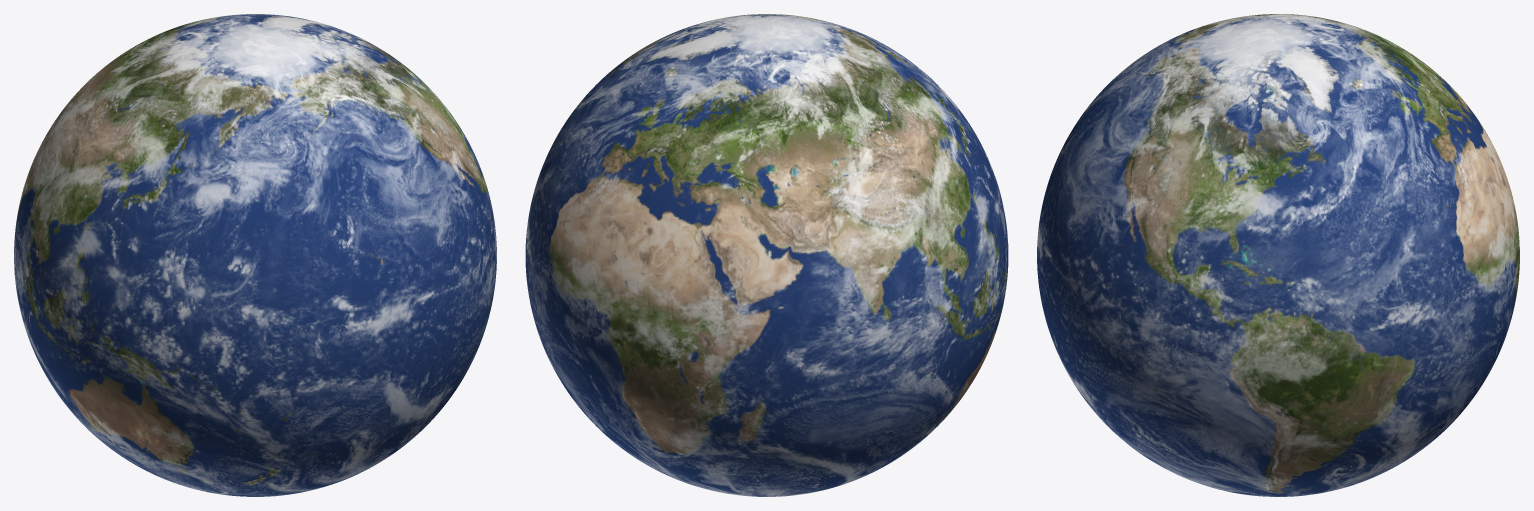
File: earth.obj
3 views of the same model, side by side, from view 1: azimuth 30°, elevation 25°; view 2: azimuth 150°, elevation 25°; view 3: azimuth 270°, elevation 25° (orthographic).
Parts seen in each view (by area): view 1: Sphere001; view 2: Sphere001; view 3: Sphere001.
Part boxes in pixels (x1,y1,x2,y2): Sphere001: (14,14,496,496); Sphere001: (525,14,1008,496); Sphere001: (1037,14,1519,496).
Size of the model in its own units: 117 by 117 by 117.
1 material, 1 textured.
